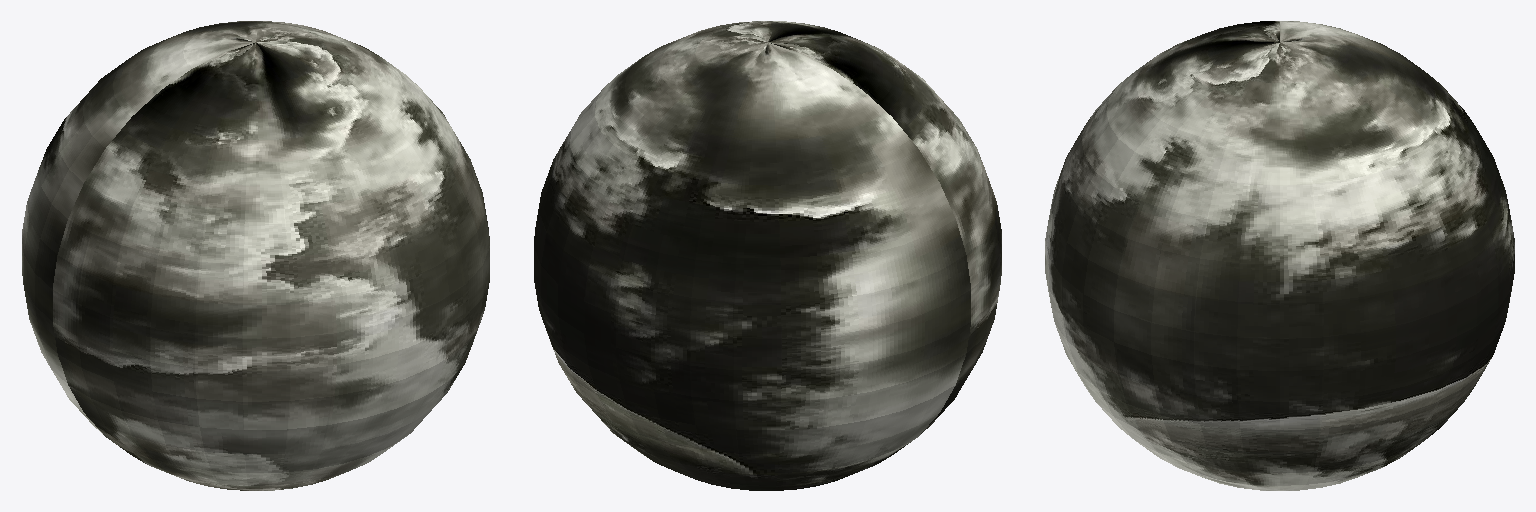
3 views of the same model, side by side, from view 1: azimuth 30°, elevation 25°; view 2: azimuth 150°, elevation 25°; view 3: azimuth 270°, elevation 25° (orthographic).
Visible parts, largest first — view 1: サーフェス球; view 2: サーフェス球; view 3: サーフェス球.
Part boxes in pixels (bbox=[...]): サーフェス球: bbox=[22, 21, 489, 490]; サーフェス球: bbox=[534, 21, 1001, 490]; サーフェス球: bbox=[1045, 21, 1514, 490].
Bounding box in the file's own units: 1.99 × 2 × 1.99.
1 materials, 1 textured.